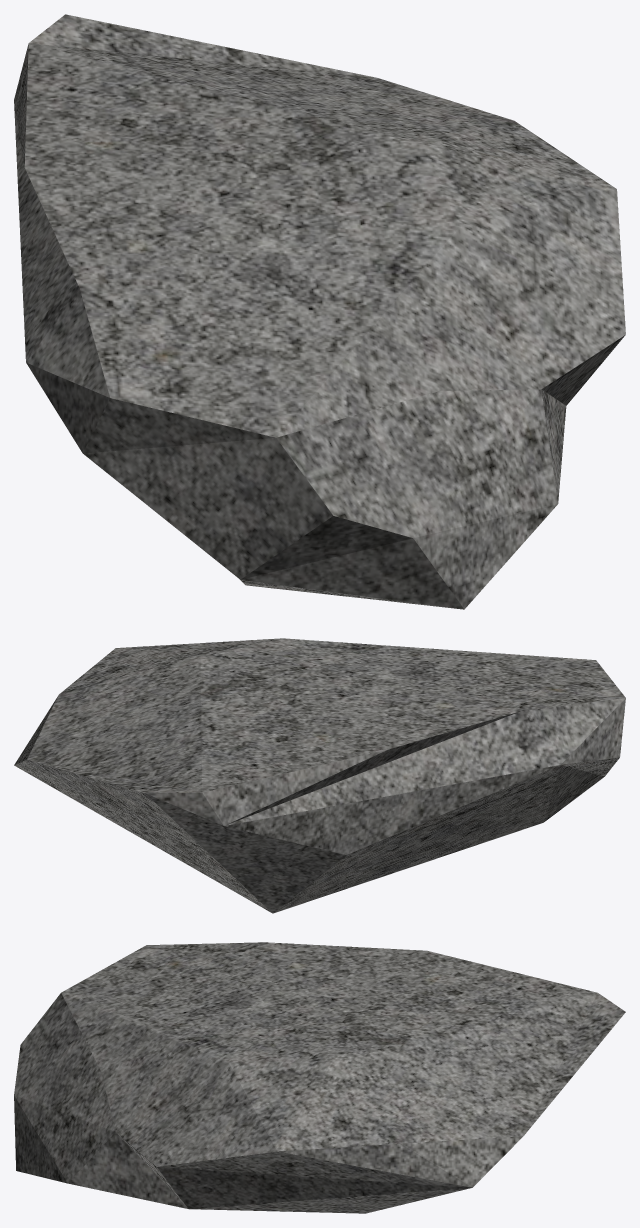
The model's file is roccia_piccola_2.fbx.
3 renders of one model, top to bottom at view 1: azimuth 30°, elevation 25°; view 2: azimuth 150°, elevation 25°; view 3: azimuth 270°, elevation 25°, orthographic. The views are drawn at different scales.
Visible parts, largest first — view 1: roccia_piccola_2; view 2: roccia_piccola_2; view 3: roccia_piccola_2.
Boxes of the visible parts, <box> form: roccia_piccola_2: <box>14,14,625,609</box>; roccia_piccola_2: <box>14,638,625,913</box>; roccia_piccola_2: <box>14,942,625,1213</box>.
Size of the model in its own units: 21.61 by 8.8 by 27.42.
